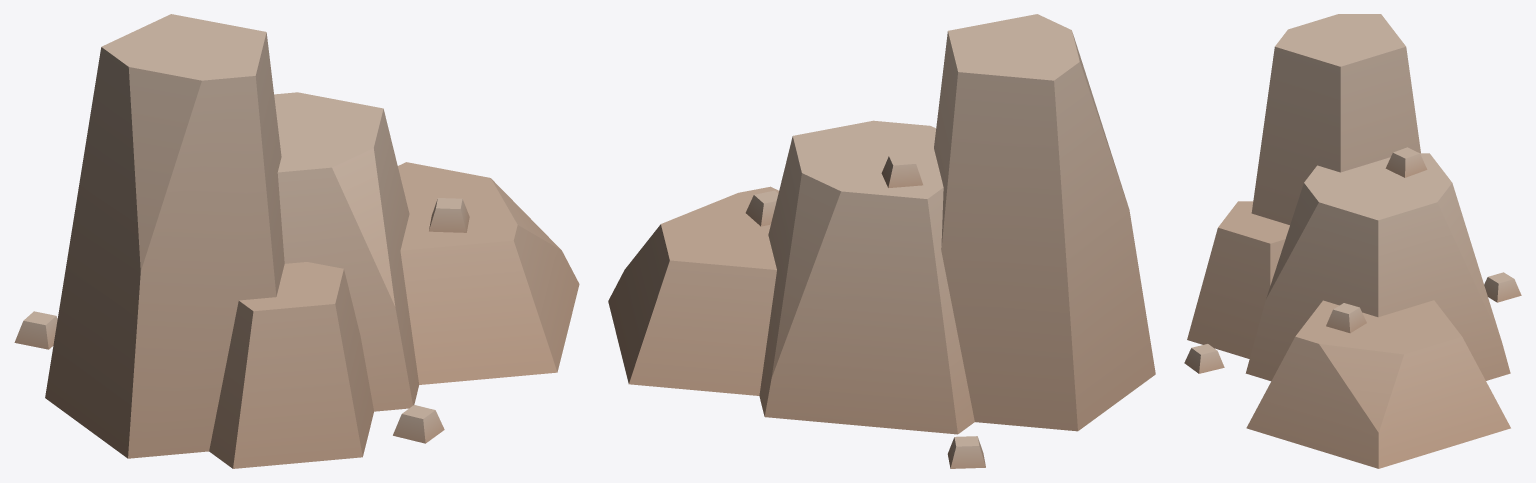
Rendered from rock-sand-c.glb.
3 renders of one model, left to right at view 1: azimuth 30°, elevation 25°; view 2: azimuth 150°, elevation 25°; view 3: azimuth 270°, elevation 25°, orthographic. The views are drawn at different scales.
Visible parts, largest first — view 1: rock-sand-c; view 2: rock-sand-c; view 3: rock-sand-c.
Boxes of the visible parts, x1=… form: rock-sand-c: x1=14, y1=14, x2=579, y2=468; rock-sand-c: x1=608, y1=14, x2=1155, y2=468; rock-sand-c: x1=1184, y1=14, x2=1521, y2=468.
Bounding box in the file's own units: 0.7837 × 0.51 × 0.5691.
